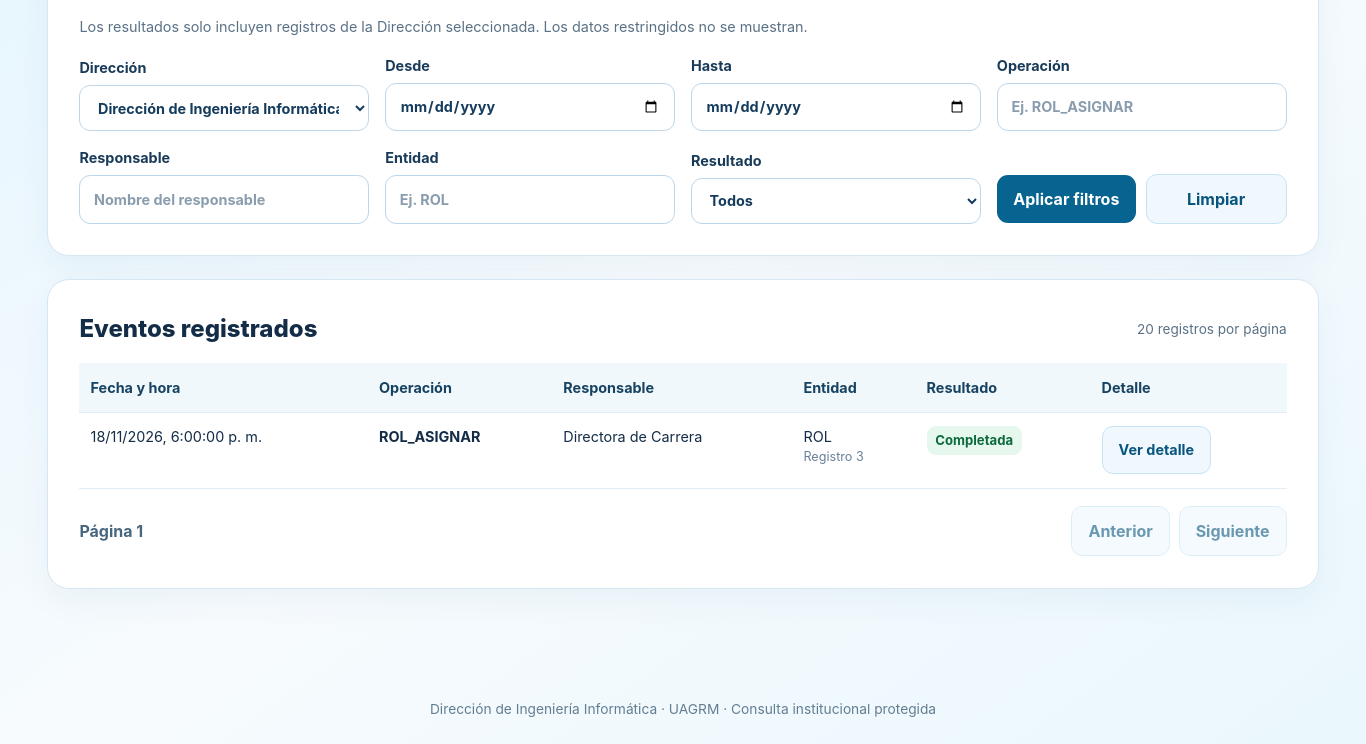
Scenario: Navegación accesible al detalle de auditoría › respeta el movimiento reducido y muestra el error de consulta en el panel enfocado
(page scrolled)
Click the button with aria-label "Ver detalle del evento 3". click: (1156, 450)
box: top-left (1102, 426), bottom-right (1211, 474)
(page scrolled)
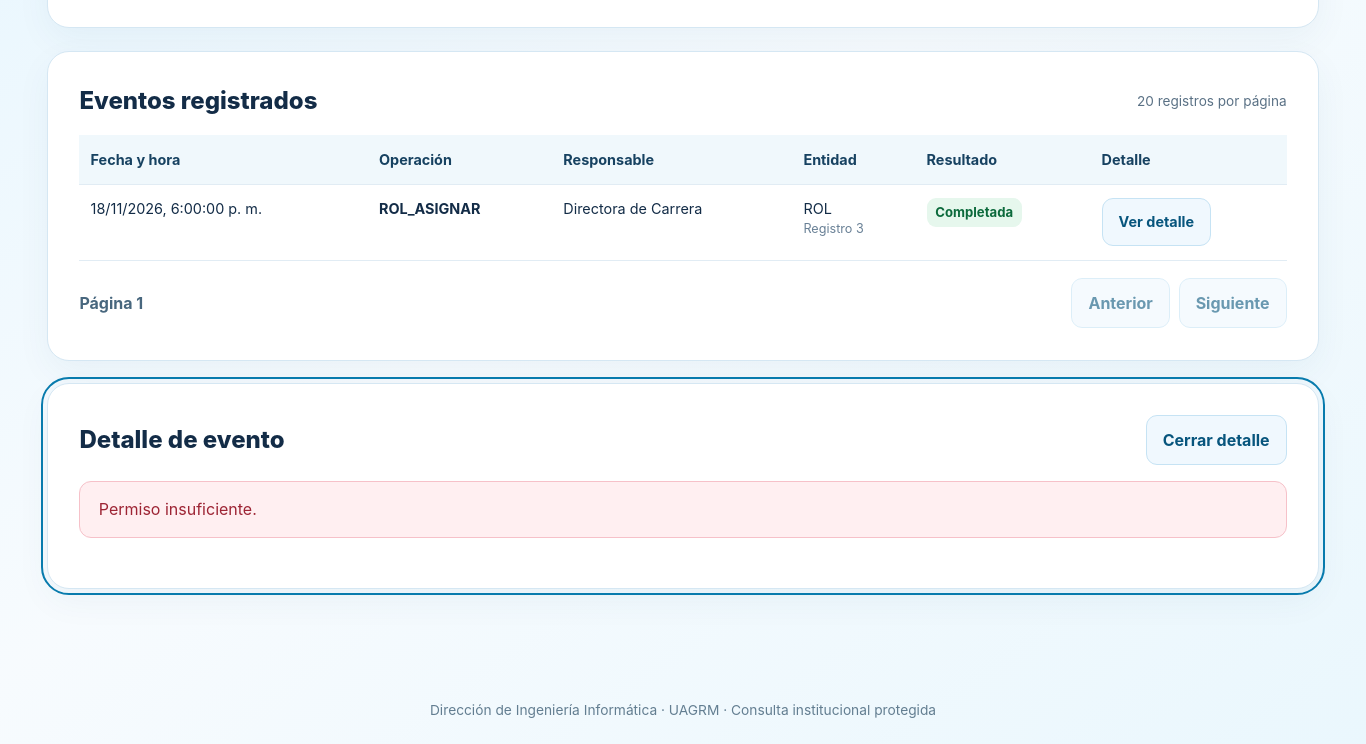
Check: the text "Permiso insuficiente." is shown, box top-left (79, 481), bottom-right (1287, 538)
